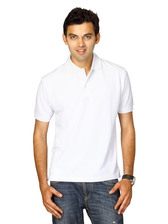clothoes: (29, 52, 134, 181)
watch: (121, 169, 141, 186)
